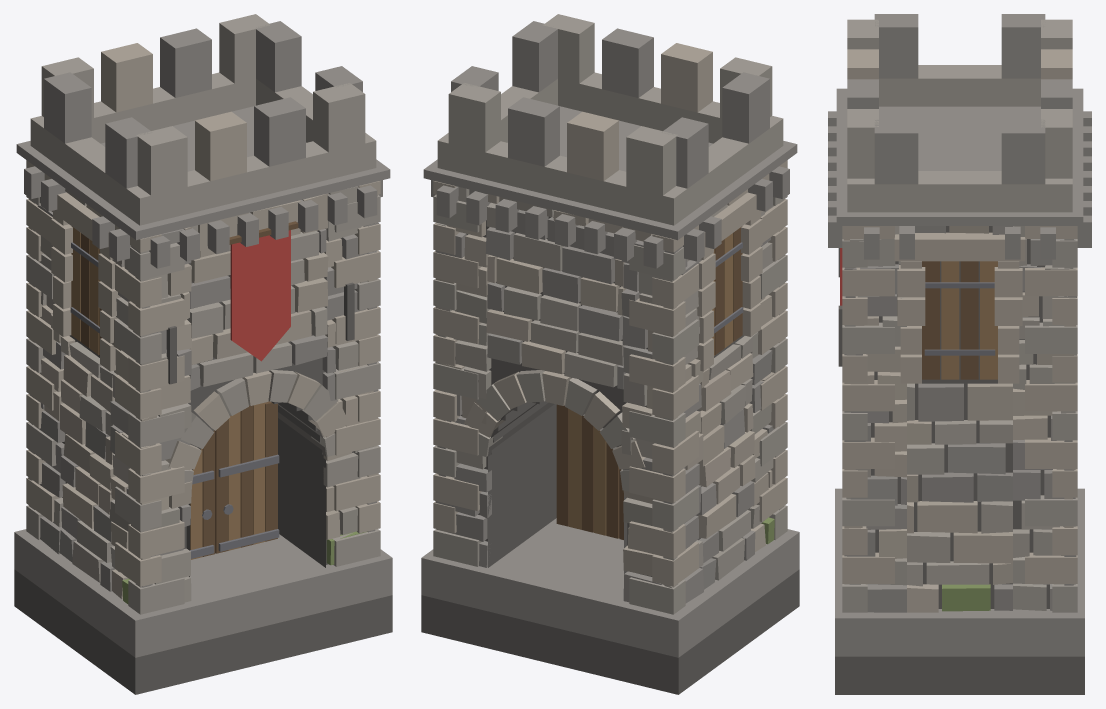
File: SM_Wall_Gatehouse.fbx
3 renders of one model, left to right at view 1: azimuth 30°, elevation 25°; view 2: azimuth 150°, elevation 25°; view 3: azimuth 270°, elevation 25°, orthographic. The views are drawn at different scales.
Visible parts, largest first — view 1: SM_Wall_Gatehouse; view 2: SM_Wall_Gatehouse; view 3: SM_Wall_Gatehouse.
Part boxes in pixels (<box>): SM_Wall_Gatehouse: <box>14,14,392,694</box>; SM_Wall_Gatehouse: <box>421,14,799,694</box>; SM_Wall_Gatehouse: <box>828,14,1091,694</box>.
Bounding box in the file's own units: 4.5 × 8.71 × 3.74.
